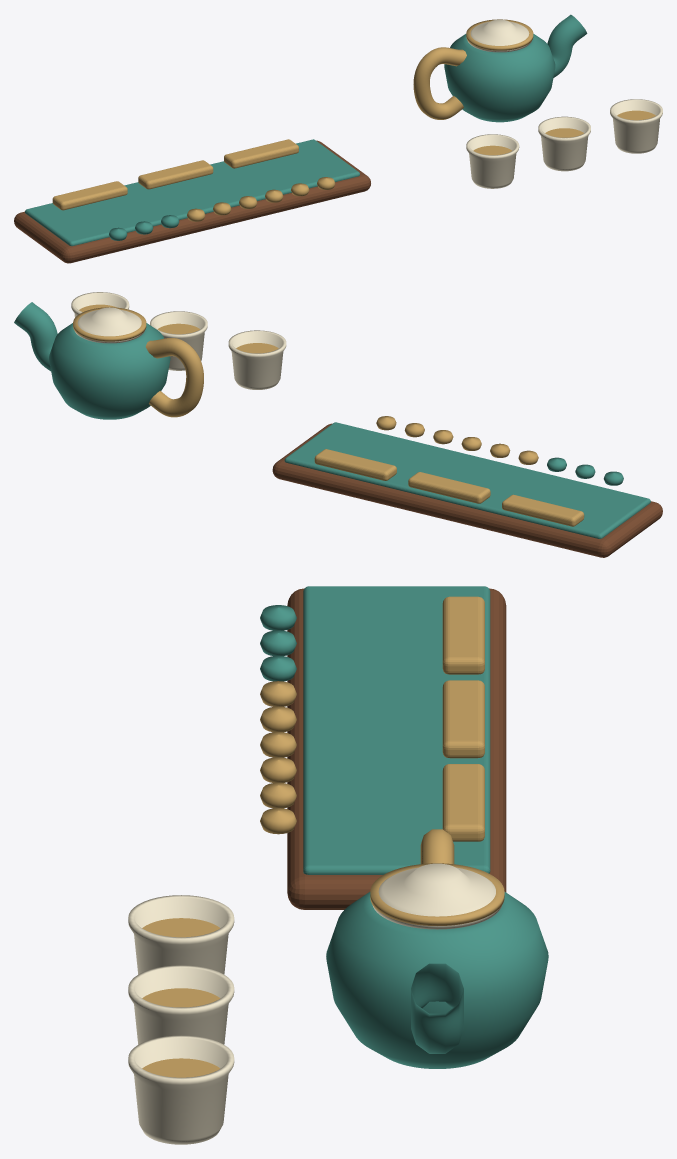
The model's file is tea_tableware.glb.
The picture shows the model from 3 angles, top to bottom: view 1: azimuth 30°, elevation 25°; view 2: azimuth 150°, elevation 25°; view 3: azimuth 270°, elevation 25°; orthographic projection. The views are drawn at different scales.
Parts seen in each view (by area): view 1: CeladonInset, WheelThrownBody, PublicExchangeTray, TeaCup1, TeaCup0, TeaCup2, SweptHandle, DomedLid, Spout, TileRest.001, TileRest, TileRest.002 (+1 smaller); view 2: CeladonInset, WheelThrownBody, PublicExchangeTray, TeaCup0, SweptHandle, DomedLid, Spout, TeaCup1, TileRest.002, TileRest, TileRest.001, TeaCup2 (+1 smaller); view 3: CeladonInset, WheelThrownBody, PublicExchangeTray, TeaCup2, TeaCup1, TeaCup0, DomedLid, Spout, TileRest, TileRest.001, TileRest.002, LidGildedRing (+12 smaller).
Part boxes in pixels (bbox=[...]): CeladonInset: bbox=[25, 139, 359, 246]; WheelThrownBody: bbox=[444, 33, 555, 122]; PublicExchangeTray: bbox=[14, 140, 370, 263]; TeaCup1: bbox=[538, 116, 590, 171]; TeaCup0: bbox=[466, 134, 519, 188]; TeaCup2: bbox=[610, 99, 662, 153]; SweptHandle: bbox=[413, 47, 466, 119]; DomedLid: bbox=[468, 19, 531, 52]; Spout: bbox=[547, 14, 587, 77]; TileRest.001: bbox=[138, 160, 213, 189]; TileRest: bbox=[52, 181, 127, 210]; TileRest.002: bbox=[224, 139, 298, 168]; CeladonInset: bbox=[284, 422, 650, 538]; WheelThrownBody: bbox=[49, 323, 170, 419]; PublicExchangeTray: bbox=[272, 423, 662, 557]; TeaCup0: bbox=[228, 330, 286, 389]; SweptHandle: bbox=[145, 338, 203, 417]; DomedLid: bbox=[75, 307, 144, 343]; Spout: bbox=[14, 302, 57, 371]; TeaCup1: bbox=[150, 311, 207, 370]; TileRest.002: bbox=[314, 449, 396, 480]; TileRest: bbox=[502, 494, 584, 526]; TileRest.001: bbox=[408, 472, 490, 503]; TeaCup2: bbox=[71, 292, 129, 317]; CeladonInset: bbox=[303, 586, 490, 874]; WheelThrownBody: bbox=[326, 892, 548, 1068]; PublicExchangeTray: bbox=[287, 588, 506, 909]; TeaCup2: bbox=[128, 1035, 234, 1144]; TeaCup1: bbox=[128, 965, 234, 1044]; TeaCup0: bbox=[128, 895, 234, 974]; DomedLid: bbox=[372, 863, 501, 929]; Spout: bbox=[411, 963, 463, 1053]; TileRest: bbox=[442, 596, 484, 674]; TileRest.001: bbox=[442, 680, 484, 758]; TileRest.002: bbox=[442, 764, 484, 841]; LidGildedRing: bbox=[370, 863, 504, 925].
Bounding box in the file's own units: 7.42 × 1.26 × 2.38.
